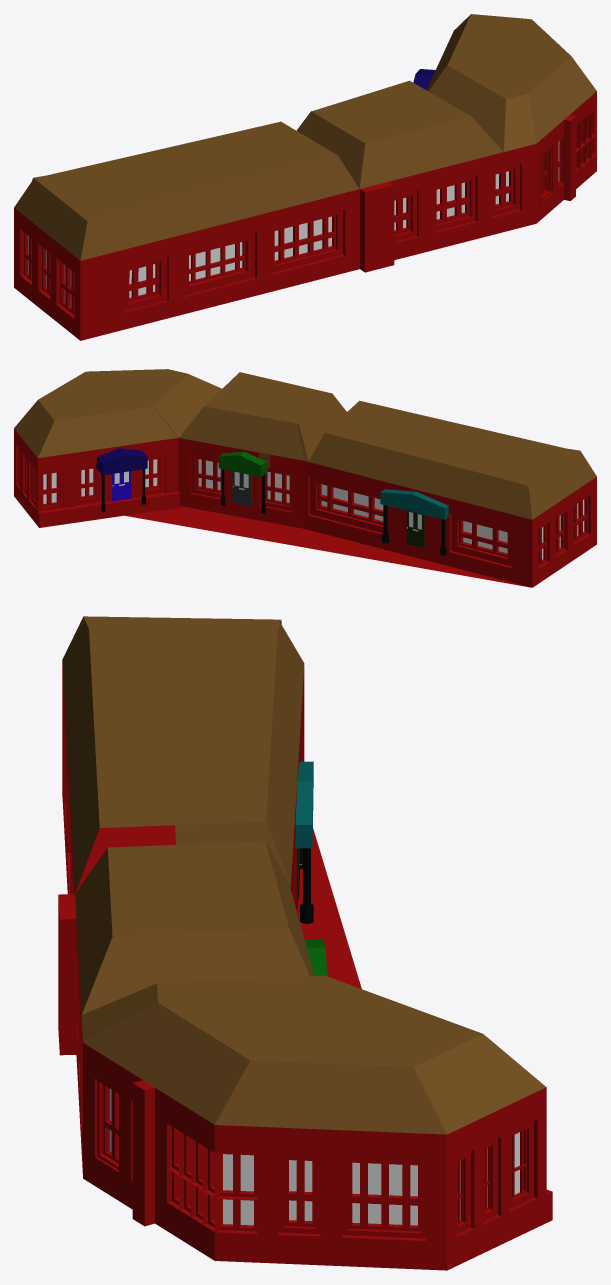
File: KingstonStreetHouses3.fbx
3 renders of one model, top to bottom at view 1: azimuth 30°, elevation 25°; view 2: azimuth 150°, elevation 25°; view 3: azimuth 270°, elevation 25°, orthographic. The views are drawn at different scales.
Parts seen in each view (by area): view 1: Vert.018; view 2: Vert.018, Cube.030, Cube.028, Cube.029, Cube.033, Cube.032, Cube.031; view 3: Vert.018, Cube.030.
Part boxes in pixels (x1=…): Vert.018: x1=14, y1=14, x2=596, y2=340; Vert.018: x1=14, y1=369, x2=596, y2=587; Cube.030: x1=380, y1=489, x2=448, y2=519; Cube.028: x1=96, y1=448, x2=147, y2=475; Cube.029: x1=218, y1=451, x2=267, y2=477; Cube.033: x1=406, y1=510, x2=424, y2=547; Cube.032: x1=232, y1=471, x2=251, y2=506; Cube.031: x1=112, y1=471, x2=131, y2=501; Vert.018: x1=58, y1=616, x2=552, y2=1270; Cube.030: x1=295, y1=761, x2=313, y2=848.
Bounding box in the file's own units: 5459 × 1046 × 2399.
